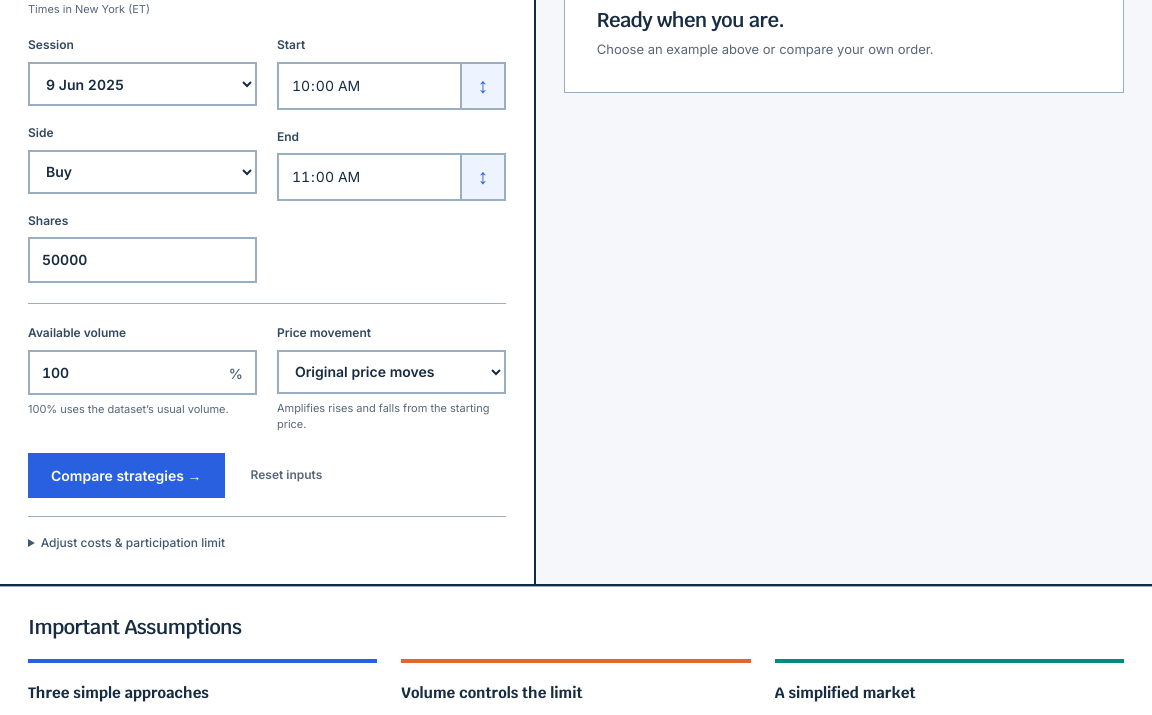
it: blocks out-of-range available volume locally
(page scrolled)
Check: the button "Compare strategies →" is enabled, box left=28, top=452, right=224, bottom=498
Replace the text in the number field labelled "Available volume % 100% uses the dataset’s usual volume." with "0": (142, 372) left=28, top=350, right=257, bottom=395
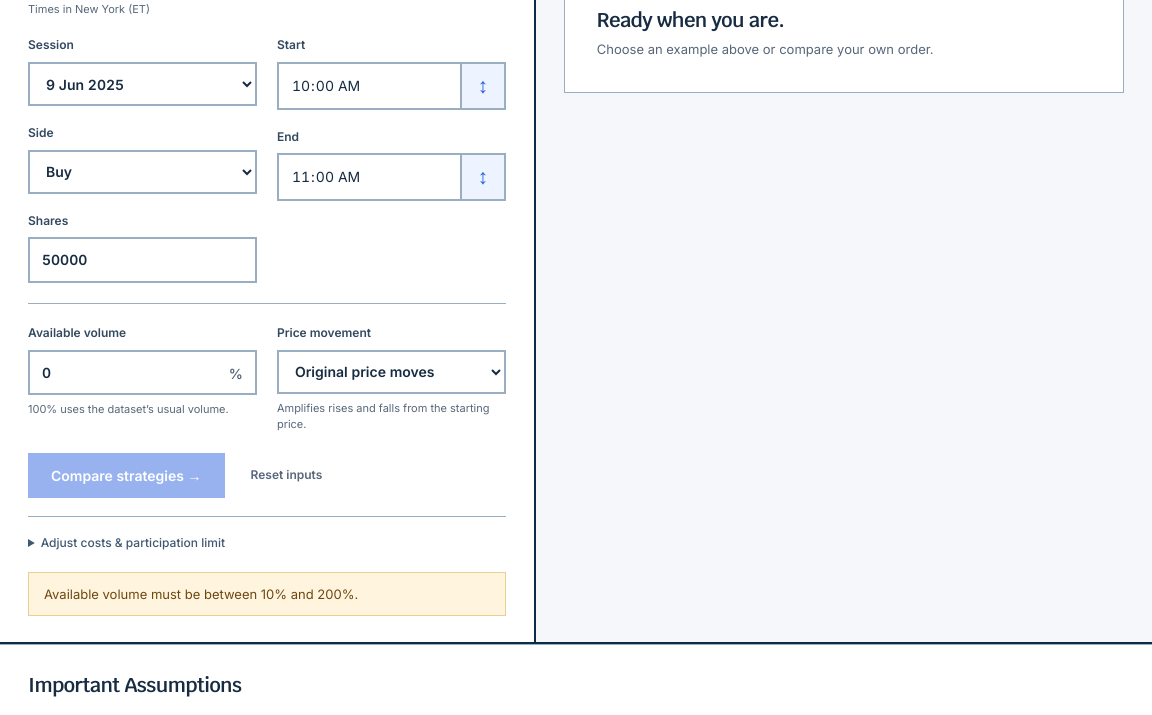
Check: the text "Available volume must be between 10% and 200%." is shown, box left=28, top=572, right=506, bottom=616
Check: the button "Compare strategies →" is disabled, box left=28, top=452, right=224, bottom=498
